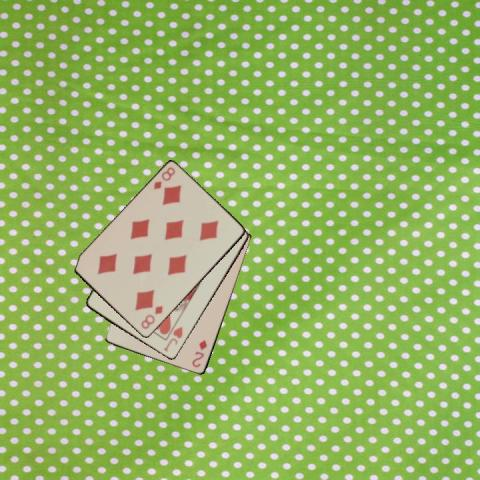2d: (189, 337, 209, 369)
8d: (138, 302, 165, 330), (150, 164, 176, 191)
Jh: (160, 324, 184, 353)
